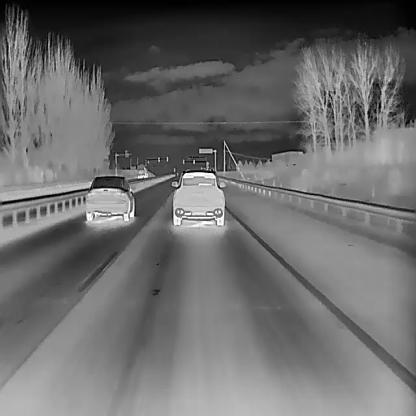car: (171, 166, 225, 226), (84, 174, 136, 220)
truck: (136, 162, 147, 178)
